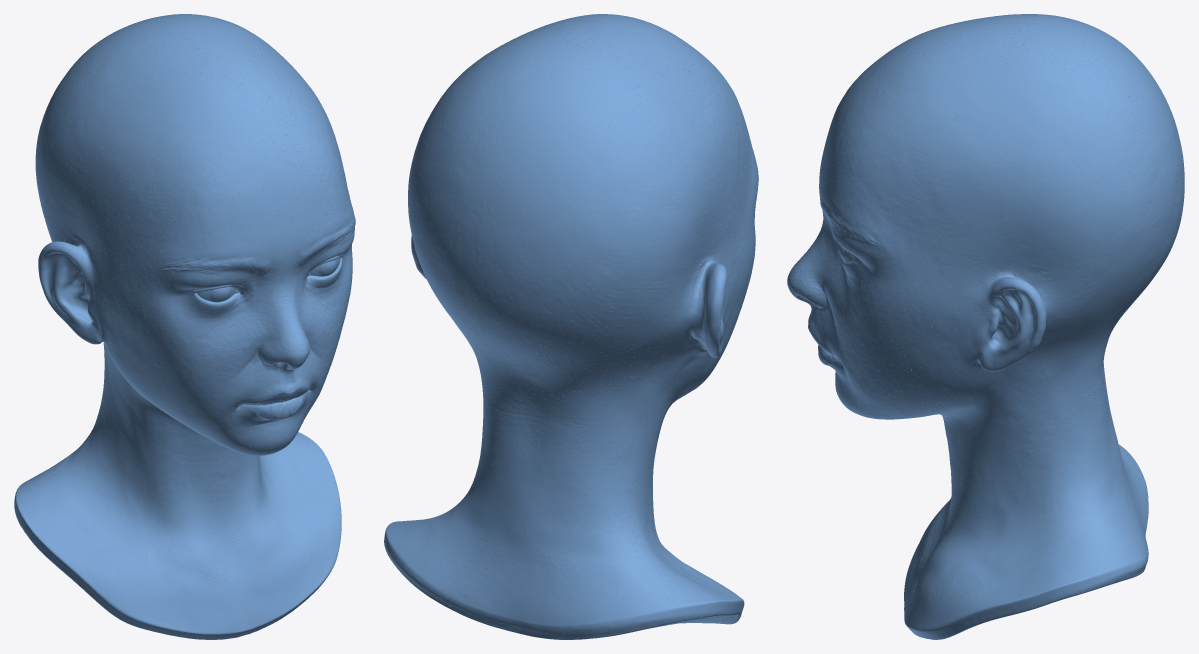
Rendered from 石膏头像_女中青年_01_opt.glb.
3 views of the same model, side by side, from view 1: azimuth 30°, elevation 25°; view 2: azimuth 150°, elevation 25°; view 3: azimuth 270°, elevation 25° (orthographic). The views are drawn at different scales.
Visible parts, largest first — view 1: material_0, material_0_4, material_0_10, material_0_2, material_0_12, material_0_14, material_0_6, material_0_16, material_0_8, material_0_18, material_0_19, material_0_17 (+8 smaller); view 2: material_0, material_0_8, material_0_10, material_0_12, material_0_6, material_0_2, material_0_14, material_0_4, material_0_16, material_0_18, material_0_19, material_0_17 (+8 smaller); view 3: material_0_2, material_0_8, material_0_4, material_0_12, material_0_6, material_0_14, material_0_10, material_0_16, material_0, material_0_18, material_0_19, material_0_9 (+8 smaller).
Boxes of the visible parts, bbox=[...] form: material_0: bbox=[14, 33, 345, 639]; material_0_4: bbox=[37, 14, 355, 635]; material_0_10: bbox=[36, 15, 354, 611]; material_0_2: bbox=[39, 18, 353, 608]; material_0_12: bbox=[35, 22, 353, 621]; material_0_14: bbox=[15, 16, 353, 636]; material_0_6: bbox=[14, 14, 355, 625]; material_0_16: bbox=[16, 14, 355, 639]; material_0_8: bbox=[35, 19, 355, 632]; material_0_18: bbox=[15, 14, 354, 636]; material_0_19: bbox=[16, 14, 355, 637]; material_0_17: bbox=[18, 17, 351, 639]; material_0: bbox=[384, 25, 757, 639]; material_0_8: bbox=[409, 14, 743, 623]; material_0_10: bbox=[399, 14, 758, 623]; material_0_12: bbox=[408, 14, 756, 627]; material_0_6: bbox=[385, 14, 754, 639]; material_0_2: bbox=[408, 28, 758, 618]; material_0_14: bbox=[387, 14, 757, 638]; material_0_4: bbox=[384, 24, 752, 624]; material_0_16: bbox=[387, 15, 758, 638]; material_0_18: bbox=[387, 14, 755, 639]; material_0_19: bbox=[386, 16, 756, 638]; material_0_17: bbox=[387, 17, 754, 633]; material_0_2: bbox=[801, 19, 1183, 639]; material_0_8: bbox=[811, 20, 1184, 633]; material_0_4: bbox=[787, 17, 1174, 612]; material_0_12: bbox=[793, 14, 1183, 639]; material_0_6: bbox=[803, 19, 1179, 639]; material_0_14: bbox=[787, 16, 1184, 637]; material_0_10: bbox=[807, 14, 1156, 592]; material_0_16: bbox=[787, 14, 1183, 639]; material_0: bbox=[787, 42, 1184, 638]; material_0_18: bbox=[789, 14, 1183, 639]; material_0_19: bbox=[788, 15, 1182, 635]; material_0_9: bbox=[821, 19, 1184, 630].
Size of the model in its own units: 0.1637 by 0.3 by 0.1821.
